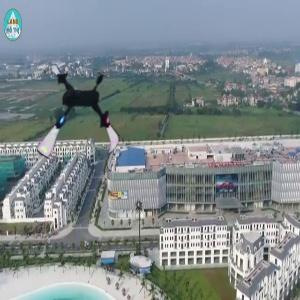drone: (26, 62, 135, 171)
